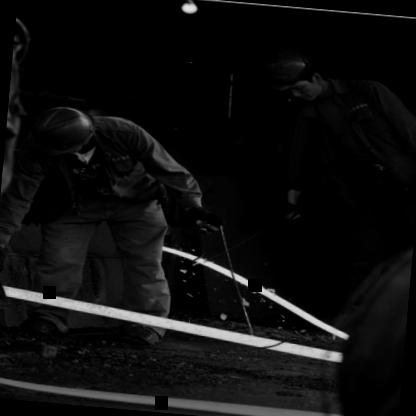helmet: (23, 102, 104, 166), (258, 44, 336, 106), (11, 8, 34, 78)
